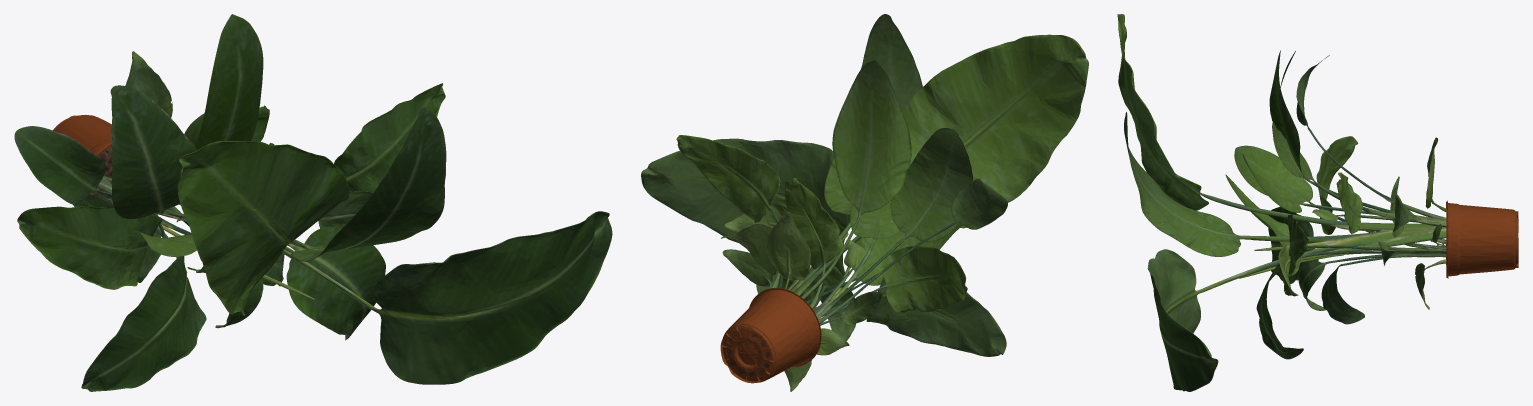
The model's file is Cây thiên điểu.glb.
3 renders of one model, left to right at view 1: azimuth 30°, elevation 25°; view 2: azimuth 150°, elevation 25°; view 3: azimuth 270°, elevation 25°, orthographic. The views are drawn at different scales.
Parts seen in each view (by area): view 1: Object_4; view 2: Object_4; view 3: Object_4.
Boxes of the visible parts, bbox=[...] form: Object_4: bbox=[14, 14, 612, 391]; Object_4: bbox=[641, 14, 1088, 391]; Object_4: bbox=[1117, 14, 1518, 391].
Size of the model in its own units: 1.85 by 1.2 by 1.64.
1 material, 1 textured.
